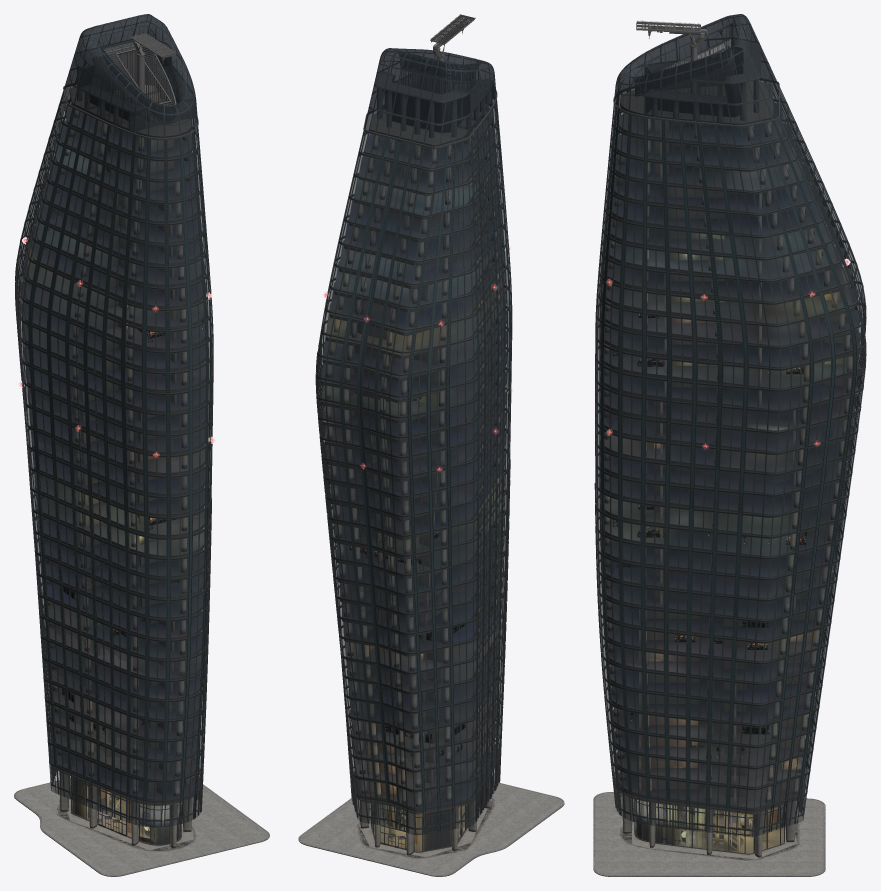
The model's file is LondonSkyscraper.glb.
The picture shows the model from 3 angles, left to right: view 1: azimuth 30°, elevation 25°; view 2: azimuth 150°, elevation 25°; view 3: azimuth 270°, elevation 25°; orthographic projection. The views are drawn at different scales.
Visible parts, largest first — view 1: Tower_Band03__GLASS, Tower_Band02__GLASS, Tower_Band05__GLASS, Tower_Band04__GLASS, Tower_Band04__FACADE, Tower_Band04__INTERIOR, Tower_Band05__FACADE, Tower_Band02__FACADE, Tower_Band03__FACADE, Tower_Band03__INTERIOR, Tower_Band02__INTERIOR, Tower_Band01__FACADE (+19 smaller); view 2: Tower_Band05__GLASS, Tower_Band04__GLASS, Tower_Band03__GLASS, Tower_Band04__INTERIOR, Tower_Band04__FACADE, Tower_Band02__GLASS, Tower_Band05__FACADE, Tower_Band02__FACADE, Tower_Band03__FACADE, Tower_Band05__INTERIOR, Tower_Band01__GLASS, Tower_Band03__INTERIOR (+18 smaller); view 3: Tower_Band02__GLASS, Tower_Band04__GLASS, Tower_Band05__GLASS, Tower_Band03__GLASS, Tower_Band04__INTERIOR, Tower_Band04__FACADE, Tower_Band03__INTERIOR, Tower_Band05__FACADE, Tower_Band02__INTERIOR, Tower_Band02__FACADE, Tower_Band05__INTERIOR, Tower_Band03__FACADE (+19 smaller).
Part boxes in pixels (x1,y1,x2,y2): Tower_Band03__GLASS: [20, 321, 212, 669]; Tower_Band02__GLASS: [29, 448, 210, 764]; Tower_Band05__GLASS: [25, 92, 208, 320]; Tower_Band04__GLASS: [16, 208, 213, 414]; Tower_Band04__FACADE: [15, 202, 213, 414]; Tower_Band04__INTERIOR: [21, 208, 208, 410]; Tower_Band05__FACADE: [29, 84, 209, 288]; Tower_Band02__FACADE: [29, 451, 211, 681]; Tower_Band03__FACADE: [17, 325, 213, 538]; Tower_Band03__INTERIOR: [24, 347, 205, 535]; Tower_Band02__INTERIOR: [36, 493, 204, 675]; Tower_Band01__FACADE: [40, 602, 207, 801]; Tower_Band05__GLASS: [328, 100, 507, 326]; Tower_Band04__GLASS: [316, 204, 512, 453]; Tower_Band03__GLASS: [319, 329, 511, 635]; Tower_Band04__INTERIOR: [321, 228, 506, 439]; Tower_Band04__FACADE: [315, 226, 512, 443]; Tower_Band02__GLASS: [331, 450, 509, 796]; Tower_Band05__FACADE: [329, 92, 508, 306]; Tower_Band02__FACADE: [329, 471, 510, 692]; Tower_Band03__FACADE: [317, 348, 511, 566]; Tower_Band05__INTERIOR: [339, 107, 501, 303]; Tower_Band01__GLASS: [342, 610, 503, 808]; Tower_Band03__INTERIOR: [325, 371, 506, 553]; Tower_Band02__GLASS: [596, 438, 843, 808]; Tower_Band04__GLASS: [596, 218, 866, 430]; Tower_Band05__GLASS: [599, 88, 845, 302]; Tower_Band03__GLASS: [596, 337, 864, 577]; Tower_Band04__INTERIOR: [600, 225, 861, 409]; Tower_Band04__FACADE: [595, 221, 866, 411]; Tower_Band03__INTERIOR: [600, 386, 855, 535]; Tower_Band05__FACADE: [600, 79, 841, 281]; Tower_Band02__INTERIOR: [600, 516, 838, 676]; Tower_Band02__FACADE: [595, 490, 846, 684]; Tower_Band05__INTERIOR: [607, 103, 827, 275]; Tower_Band03__FACADE: [594, 362, 863, 550].
Size of the model in its own units: 38.01 by 170 by 51.99.
28 materials, 28 textured.
